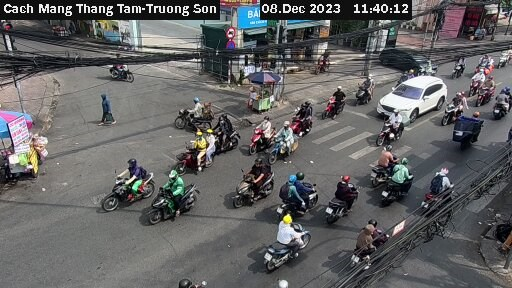car: (377, 75, 448, 122)
motorbike: (255, 218, 319, 276), (97, 161, 155, 214), (143, 171, 195, 223), (350, 217, 394, 275), (325, 171, 364, 230), (230, 157, 276, 204), (447, 111, 495, 150), (367, 108, 409, 150), (278, 177, 318, 220), (421, 169, 460, 213), (364, 145, 400, 189), (171, 133, 216, 166), (268, 122, 303, 162), (383, 164, 417, 205), (287, 102, 324, 139), (209, 114, 244, 152), (181, 98, 222, 130), (314, 84, 347, 120), (104, 54, 141, 86), (438, 90, 468, 120), (347, 74, 378, 102), (444, 55, 472, 82), (242, 120, 268, 146), (493, 85, 512, 115), (472, 76, 494, 99), (493, 44, 512, 67), (472, 50, 493, 70), (462, 69, 481, 90)
